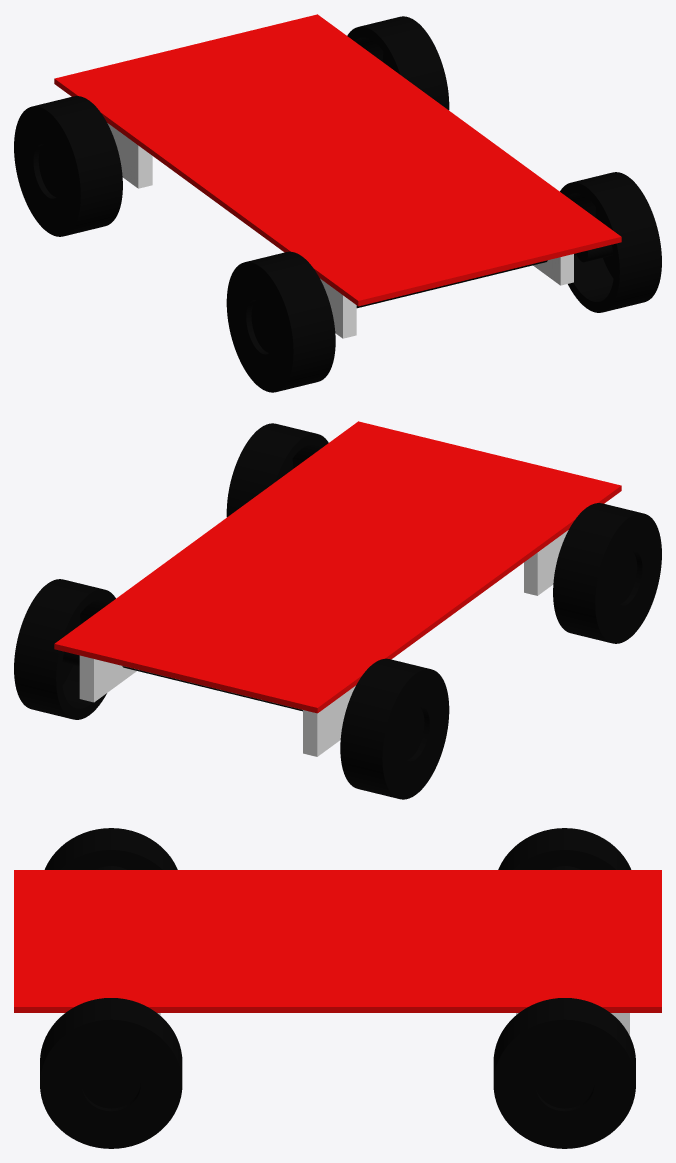
3 views of the same model, one above another, from view 1: azimuth 30°, elevation 25°; view 2: azimuth 150°, elevation 25°; view 3: azimuth 270°, elevation 25° (orthographic). The views are drawn at different scales.
Visible parts, largest first — view 1: cart; view 2: cart; view 3: cart.
Part boxes in pixels (x1,y1,x2,y2): cart: (14,14,661,392); cart: (14,421,661,799); cart: (14,828,661,1148).
Size of the model in its own units: 0.84 by 0.264 by 1.2.
